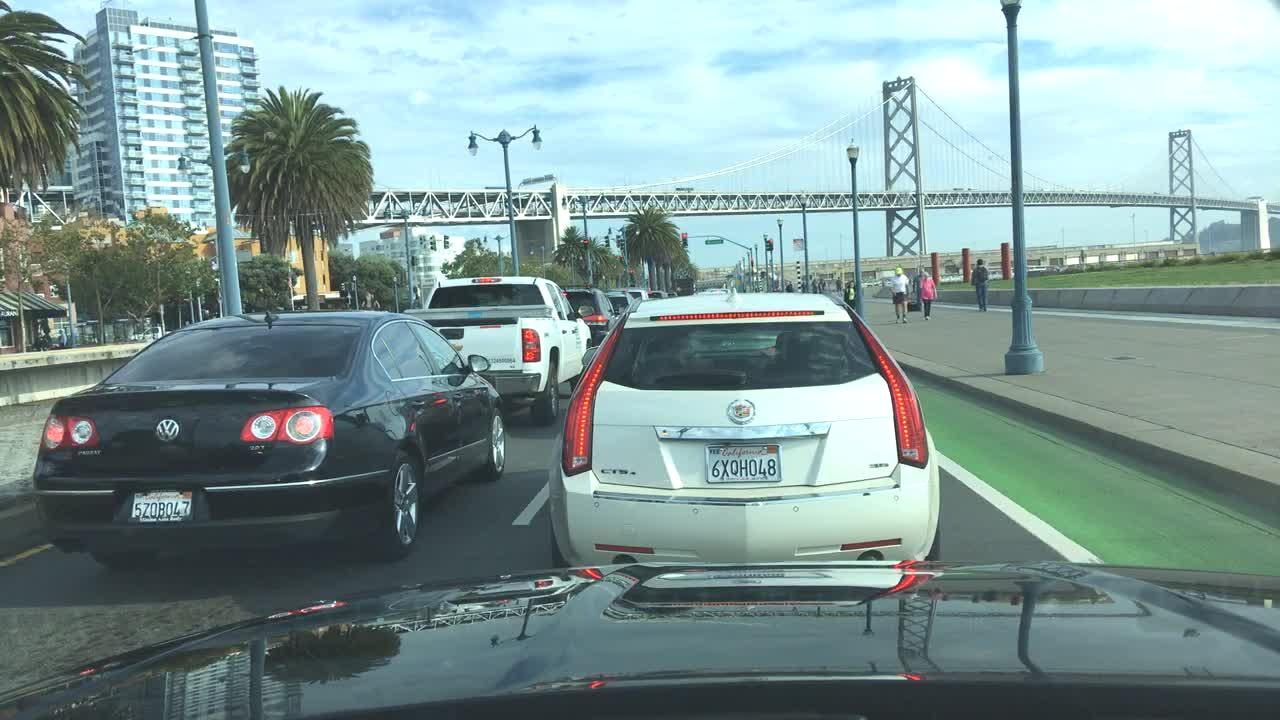Volkswagen: (151, 414, 183, 446)
cadillac: (719, 390, 768, 426)
